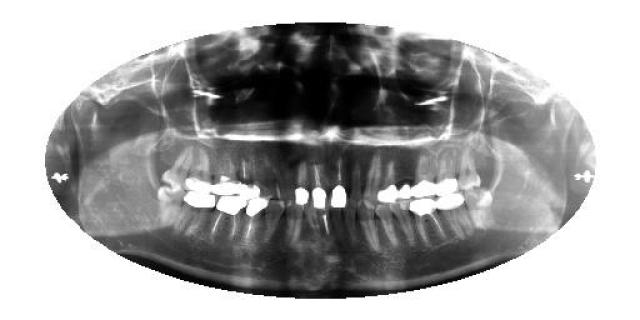Fillings: (171, 190, 214, 238), (436, 192, 475, 240), (211, 145, 240, 195), (184, 144, 211, 191), (433, 146, 458, 194), (414, 144, 436, 198), (240, 144, 260, 198), (380, 155, 398, 205), (294, 159, 311, 205), (397, 180, 415, 200)
Implant: (409, 198, 449, 248), (208, 196, 246, 248), (238, 195, 270, 254), (330, 156, 349, 209), (311, 162, 329, 210)
